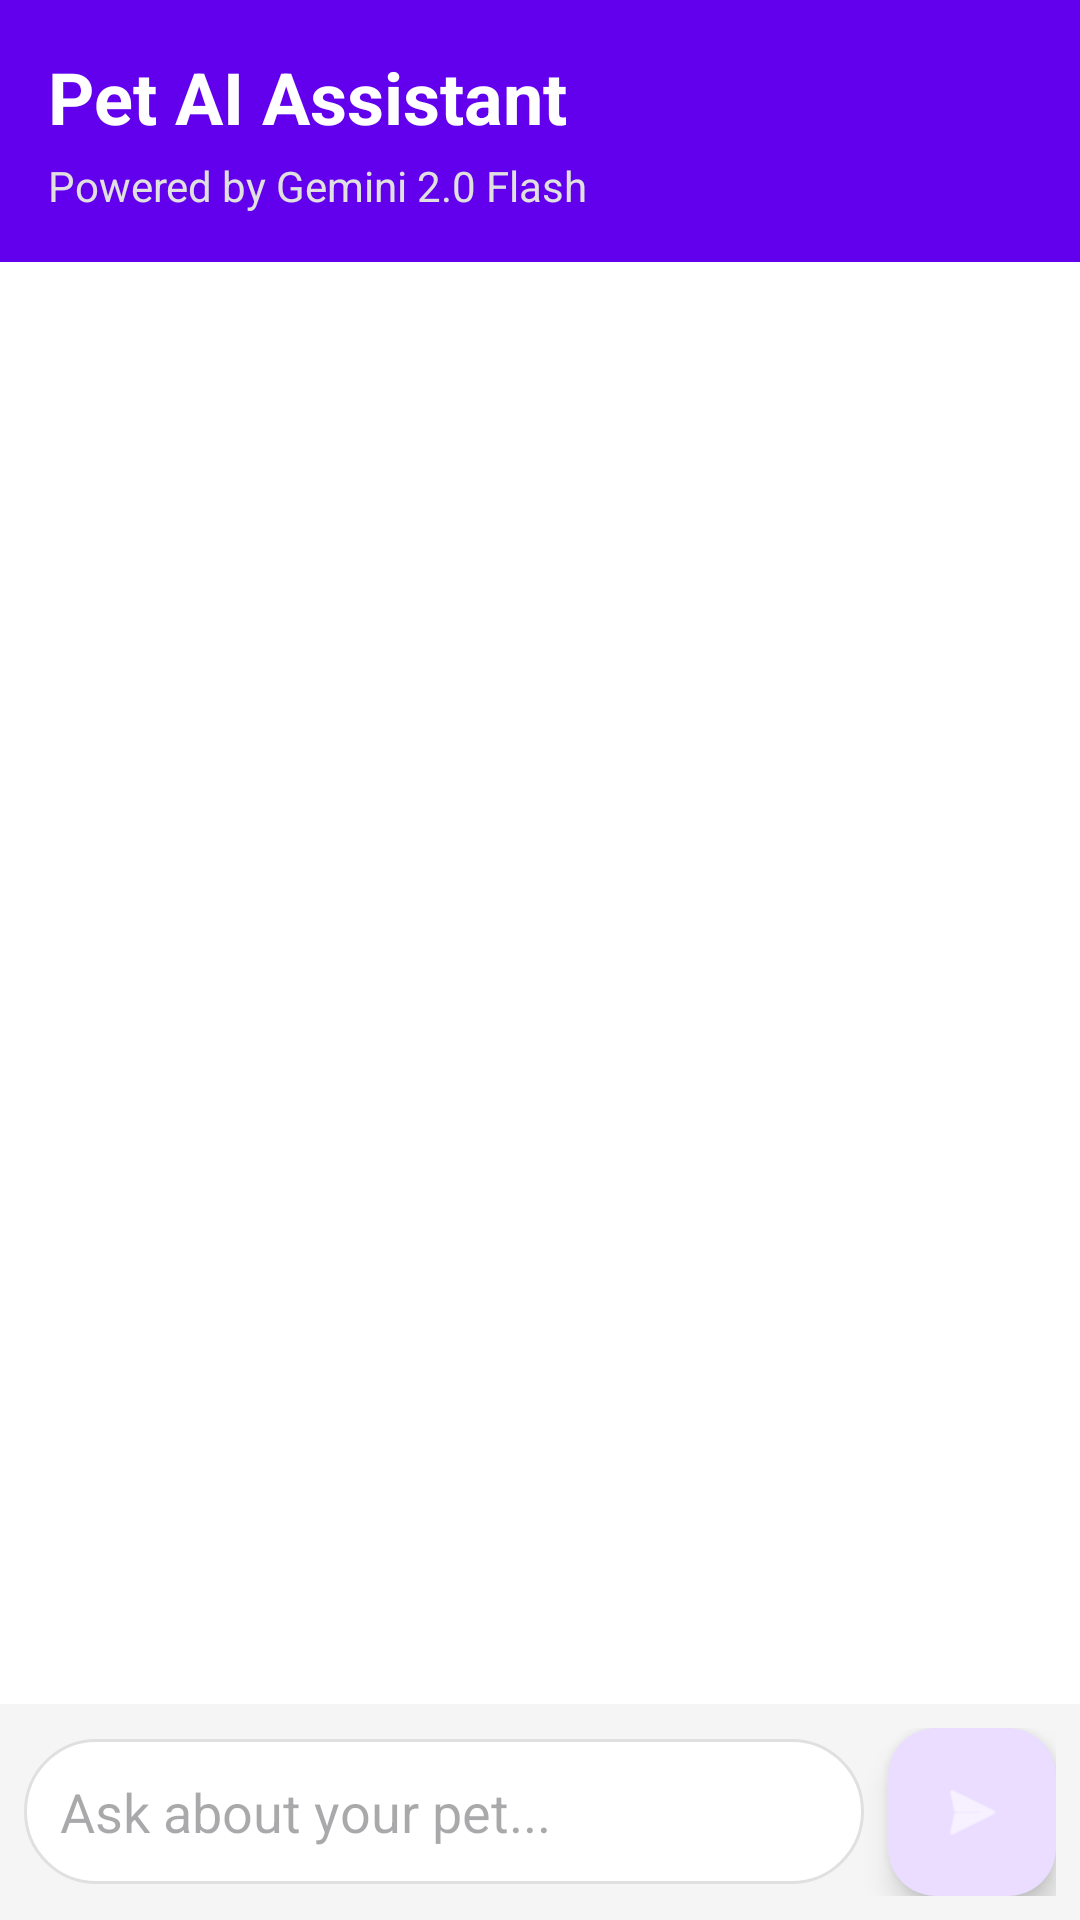

Screen size 1080*1920. Icon name, then its box in pixels as bbox=[x1, y1, x2, y2]:
send: bbox=[888, 1728, 1056, 1896]
